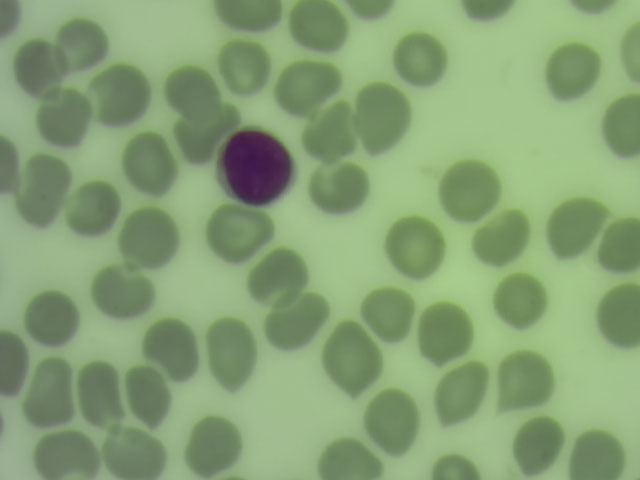RBC: (204, 310, 259, 392), (74, 357, 126, 432), (323, 325, 380, 391), (357, 80, 409, 151), (100, 426, 167, 479), (21, 153, 68, 226), (442, 160, 501, 218), (25, 359, 76, 425), (591, 283, 640, 351), (32, 430, 97, 479), (599, 91, 640, 167), (318, 434, 385, 480), (37, 89, 89, 144), (594, 216, 640, 274), (363, 286, 414, 337), (390, 219, 441, 270), (266, 295, 317, 346), (249, 251, 300, 302), (419, 304, 470, 355), (501, 355, 552, 406), (512, 423, 563, 474), (572, 429, 623, 480), (438, 365, 489, 416), (369, 395, 420, 446), (497, 278, 548, 329), (479, 213, 530, 264), (551, 203, 602, 254), (546, 45, 597, 96), (394, 34, 445, 85), (310, 161, 361, 212), (301, 107, 352, 158), (210, 205, 261, 256), (279, 59, 330, 110), (219, 40, 270, 91), (174, 106, 225, 157), (165, 62, 216, 113), (189, 421, 240, 472), (145, 318, 196, 369), (123, 366, 174, 417), (27, 293, 78, 344), (94, 268, 145, 319), (123, 213, 174, 264), (120, 137, 171, 188), (66, 182, 117, 233), (96, 70, 147, 121), (56, 17, 107, 68), (15, 41, 66, 92), (290, 1, 341, 50), (1, 328, 32, 402), (211, 1, 284, 30), (611, 23, 640, 86), (461, 1, 517, 30), (1, 133, 22, 200), (432, 451, 480, 480), (1, 1, 24, 39)
WBC: (216, 124, 297, 210)
